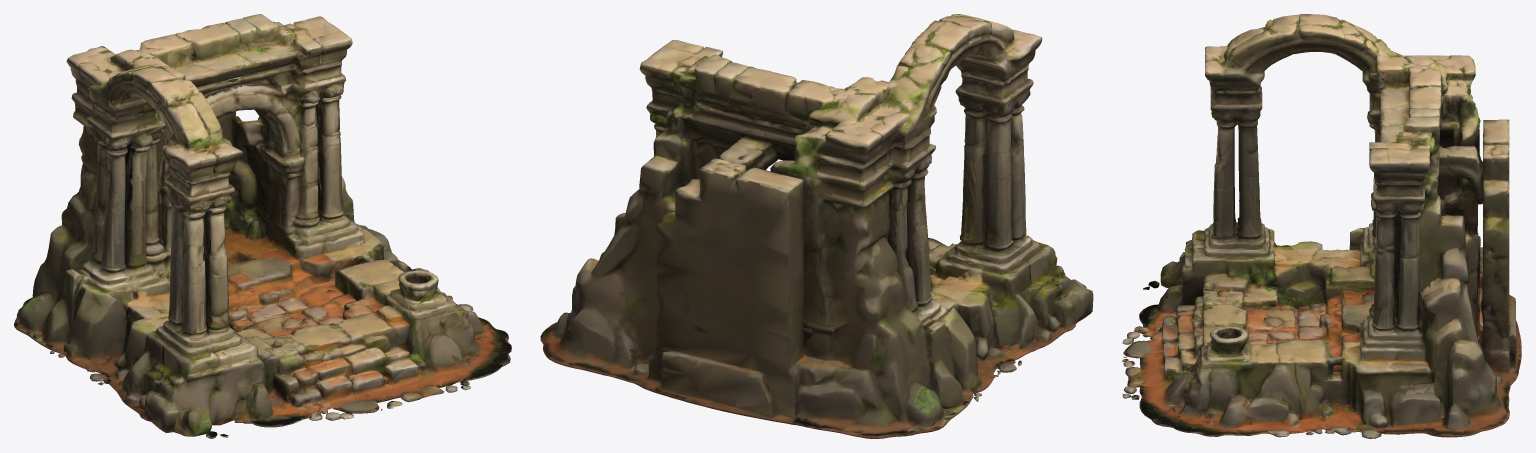
The model's file is Desert_Ruins.glb.
The picture shows the model from 3 angles, left to right: view 1: azimuth 30°, elevation 25°; view 2: azimuth 150°, elevation 25°; view 3: azimuth 270°, elevation 25°; orthographic projection. The views are drawn at different scales.
Visible parts, largest first — view 1: Desert_Ruins; view 2: Desert_Ruins; view 3: Desert_Ruins.
Boxes of the visible parts, bbox=[...] form: Desert_Ruins: bbox=[14, 14, 511, 438]; Desert_Ruins: bbox=[540, 14, 1093, 438]; Desert_Ruins: bbox=[1122, 14, 1521, 438].
Size of the model in its own units: 1.92 by 1.47 by 1.89.
Materials: 1 (1 with a texture image).
